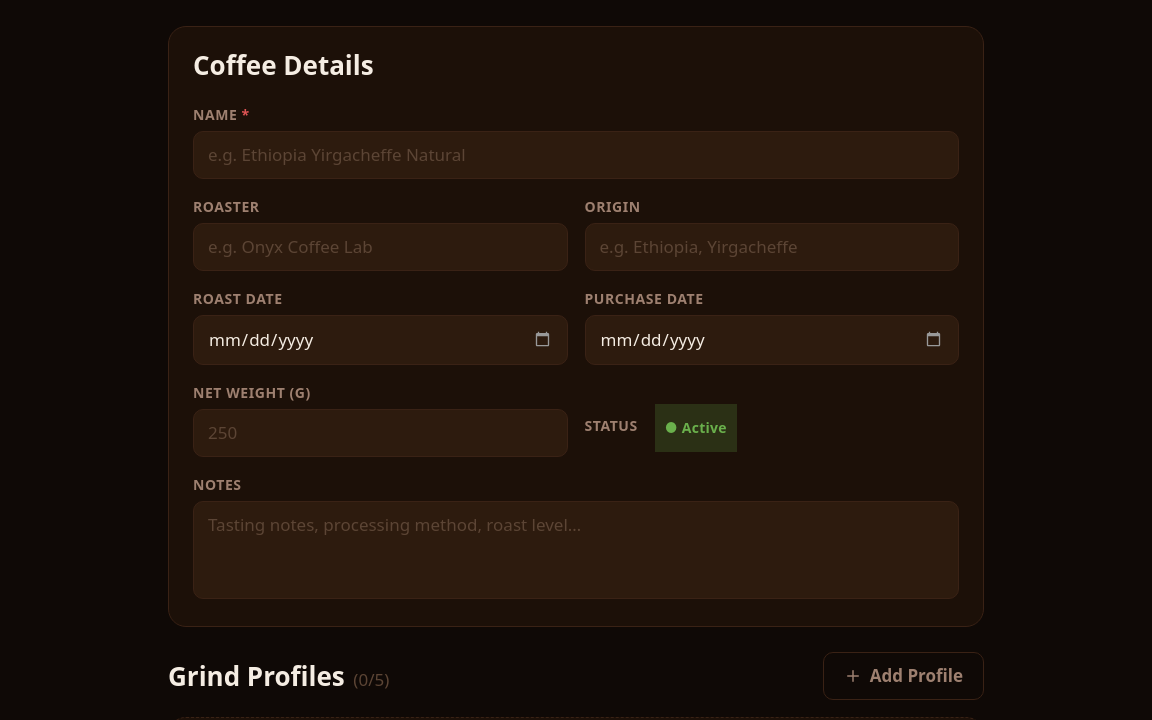
Test: CoffeeForm › grind profiles › shows the profile count in the heading
expect the text "(0/5)" is shown: met, box x1=353 y1=668 x2=389 y2=691
Click the button "Add Profile": (903, 676) x1=823 y1=652 x2=984 y2=700
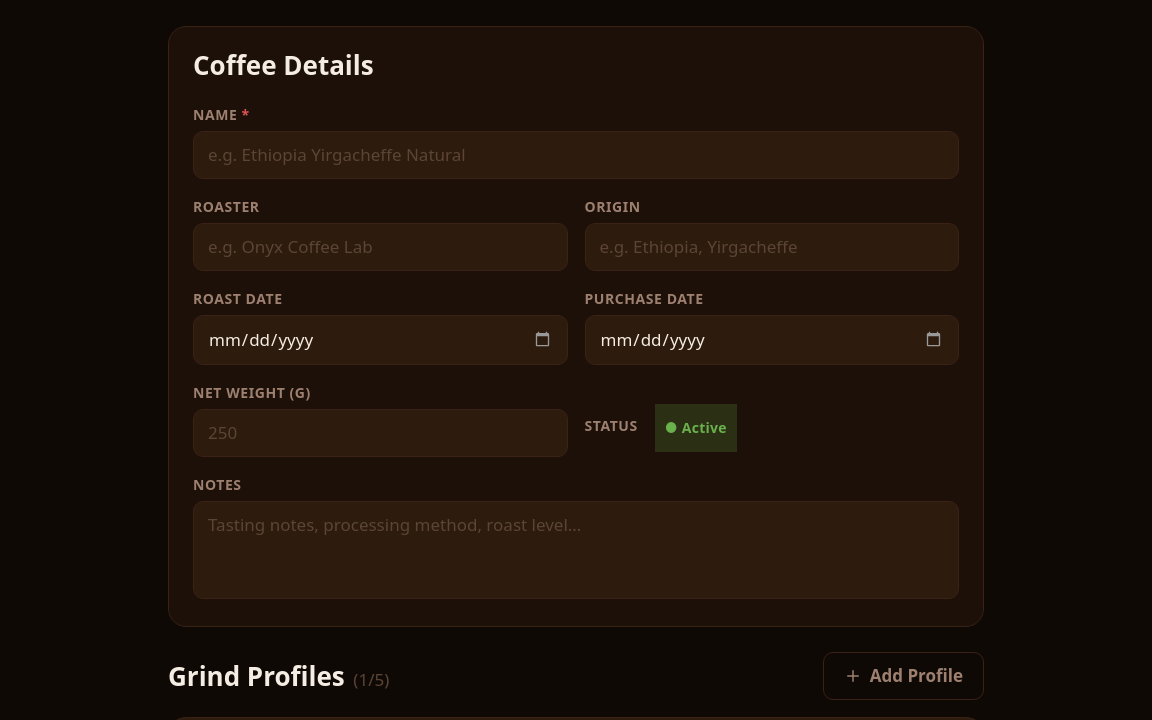
expect the text "(1/5)" is shown: met, box x1=353 y1=668 x2=389 y2=691
